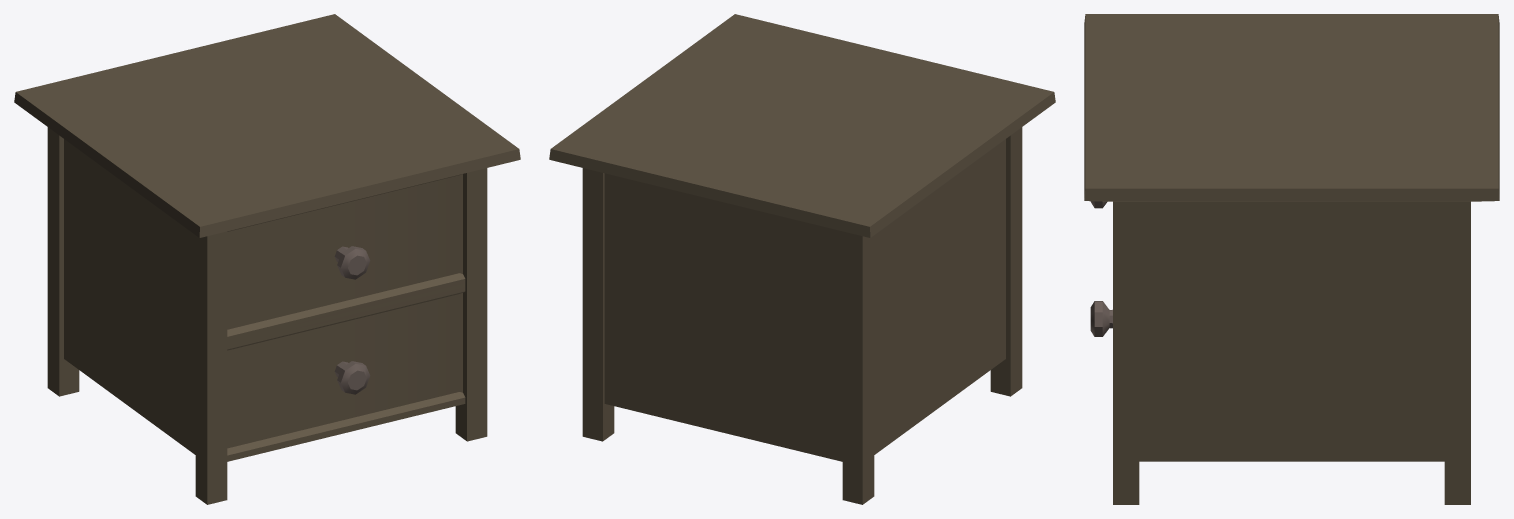
The model's file is NightStand_3.glb.
The picture shows the model from 3 angles, left to right: view 1: azimuth 30°, elevation 25°; view 2: azimuth 150°, elevation 25°; view 3: azimuth 270°, elevation 25°; orthographic projection. The views are drawn at different scales.
Visible parts, largest first — view 1: NightStand_3; view 2: NightStand_3; view 3: NightStand_3.
Boxes of the visible parts, <box> form: NightStand_3: <box>14,14,520,504</box>; NightStand_3: <box>549,14,1055,504</box>; NightStand_3: <box>1084,14,1499,504</box>.
Bounding box in the file's own units: 0.9522 × 0.827 × 0.9522.
